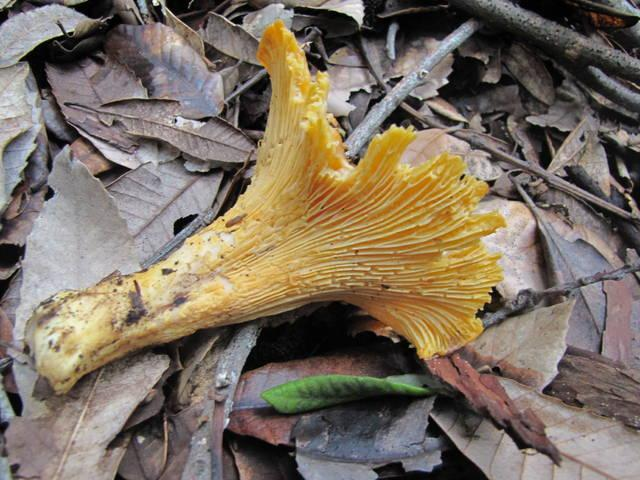Edible Mushroom: (22, 18, 507, 395)
